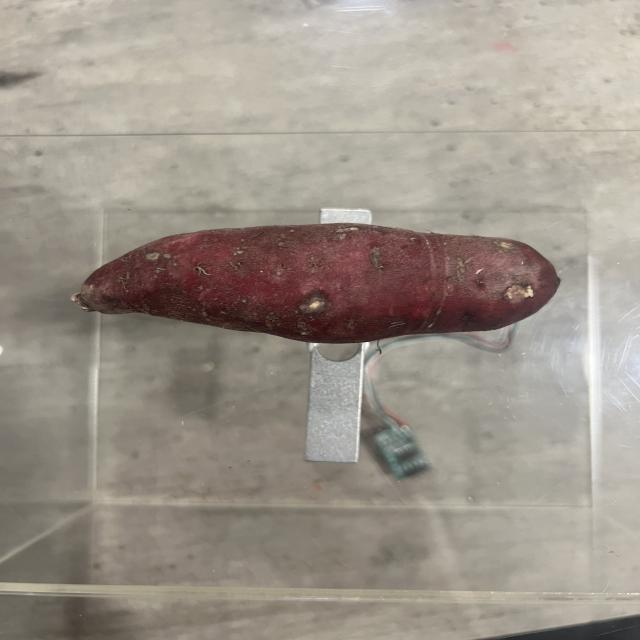sweet potato: (72, 222, 562, 344)
